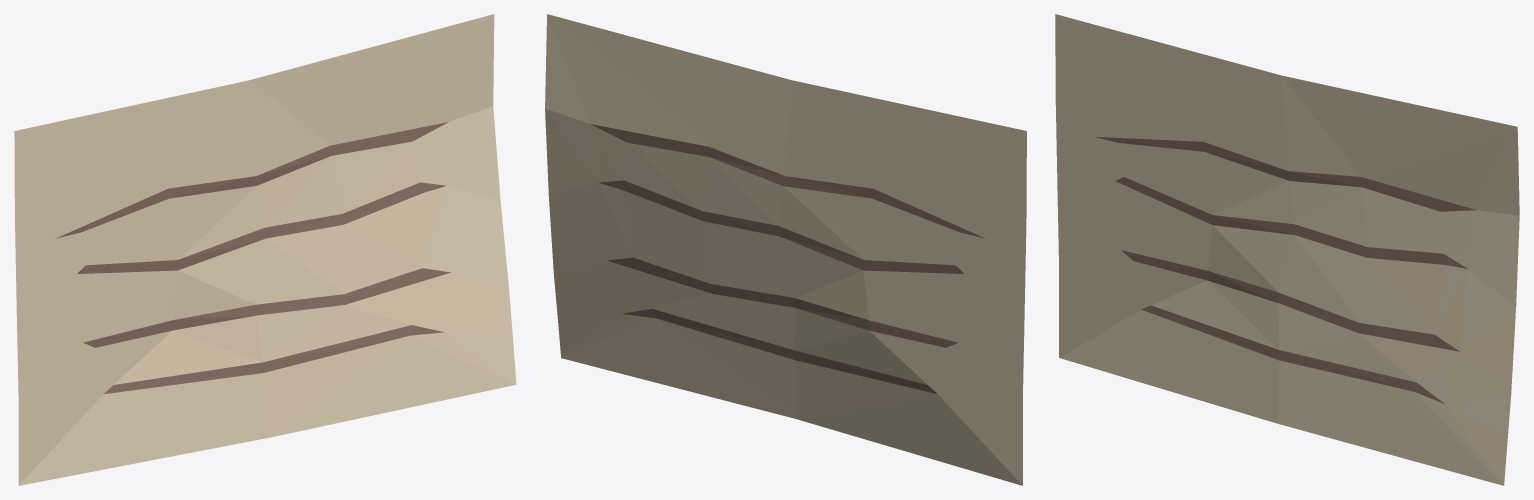
The model's file is SFHW_Paper_005.fbx.
The picture shows the model from 3 angles, left to right: view 1: azimuth 30°, elevation 25°; view 2: azimuth 150°, elevation 25°; view 3: azimuth 330°, elevation 25°; orthographic projection. The views are drawn at different scales.
Parts seen in each view (by area): view 1: SFHW_Paper_005; view 2: SFHW_Paper_005; view 3: SFHW_Paper_005.
Part boxes in pixels (bbox=[...]): SFHW_Paper_005: bbox=[14, 14, 516, 485]; SFHW_Paper_005: bbox=[545, 14, 1026, 485]; SFHW_Paper_005: bbox=[1055, 14, 1519, 485].
Size of the model in its own units: 19.42 by 13.74 by 1.37.
